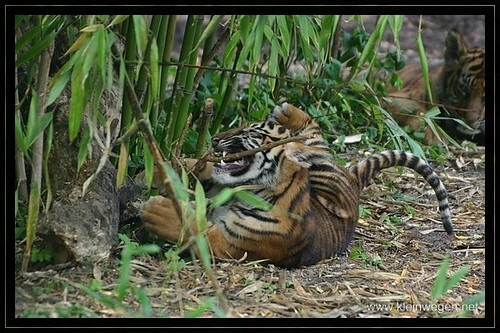tigre: (136, 101, 452, 278)
